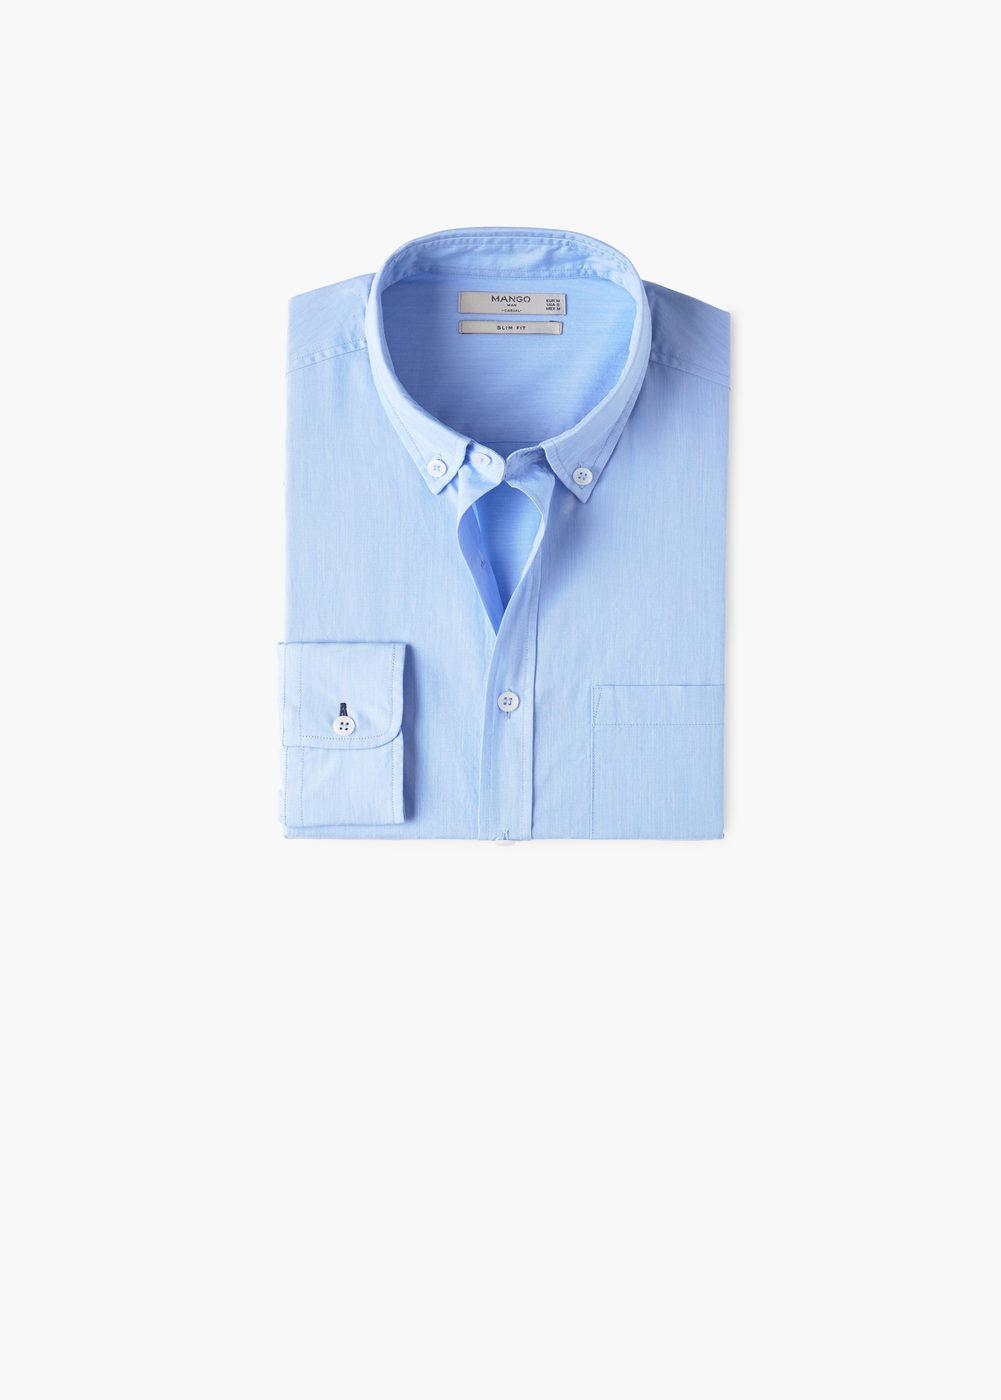teeshirt: (282, 227, 731, 865)
